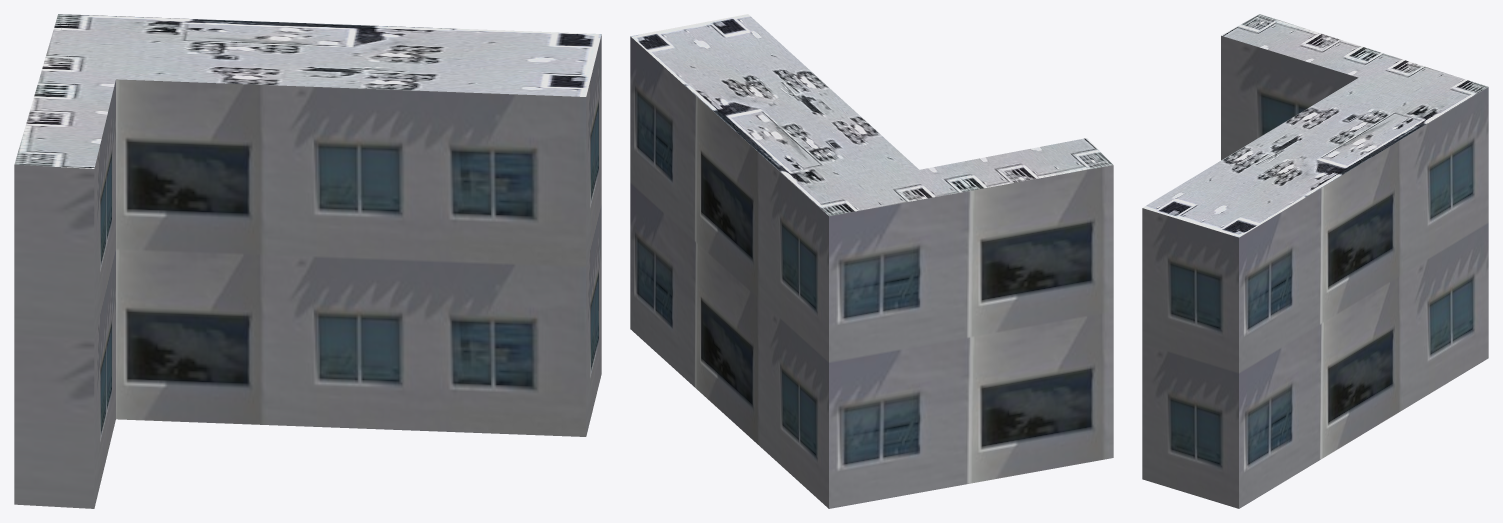
File: ResTex__3265.fbx
3 views of the same model, side by side, from view 1: azimuth 30°, elevation 25°; view 2: azimuth 150°, elevation 25°; view 3: azimuth 270°, elevation 25° (orthographic). The views are drawn at different scales.
Parts seen in each view (by area): view 1: CityEngineMaterial_10_m, CityEngineMaterial_4_m; view 2: CityEngineMaterial_10_m, CityEngineMaterial_4_m; view 3: CityEngineMaterial_10_m, CityEngineMaterial_4_m.
Part boxes in pixels (<box>): CityEngineMaterial_10_m: <box>14,35,601,508</box>; CityEngineMaterial_4_m: <box>14,14,601,168</box>; CityEngineMaterial_10_m: <box>630,36,1113,508</box>; CityEngineMaterial_4_m: <box>631,14,1113,215</box>; CityEngineMaterial_10_m: <box>1142,36,1488,508</box>; CityEngineMaterial_4_m: <box>1143,14,1488,237</box>.
Size of the model in its own units: 10.61 by 6 by 6.95.
Materials: 2 (2 with a texture image).
